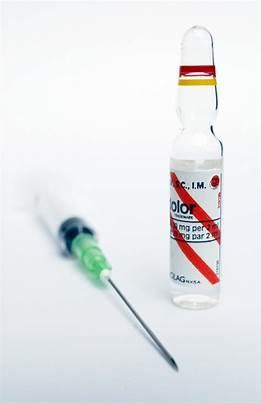Syringe: (20, 208, 182, 377), (162, 18, 232, 318)
